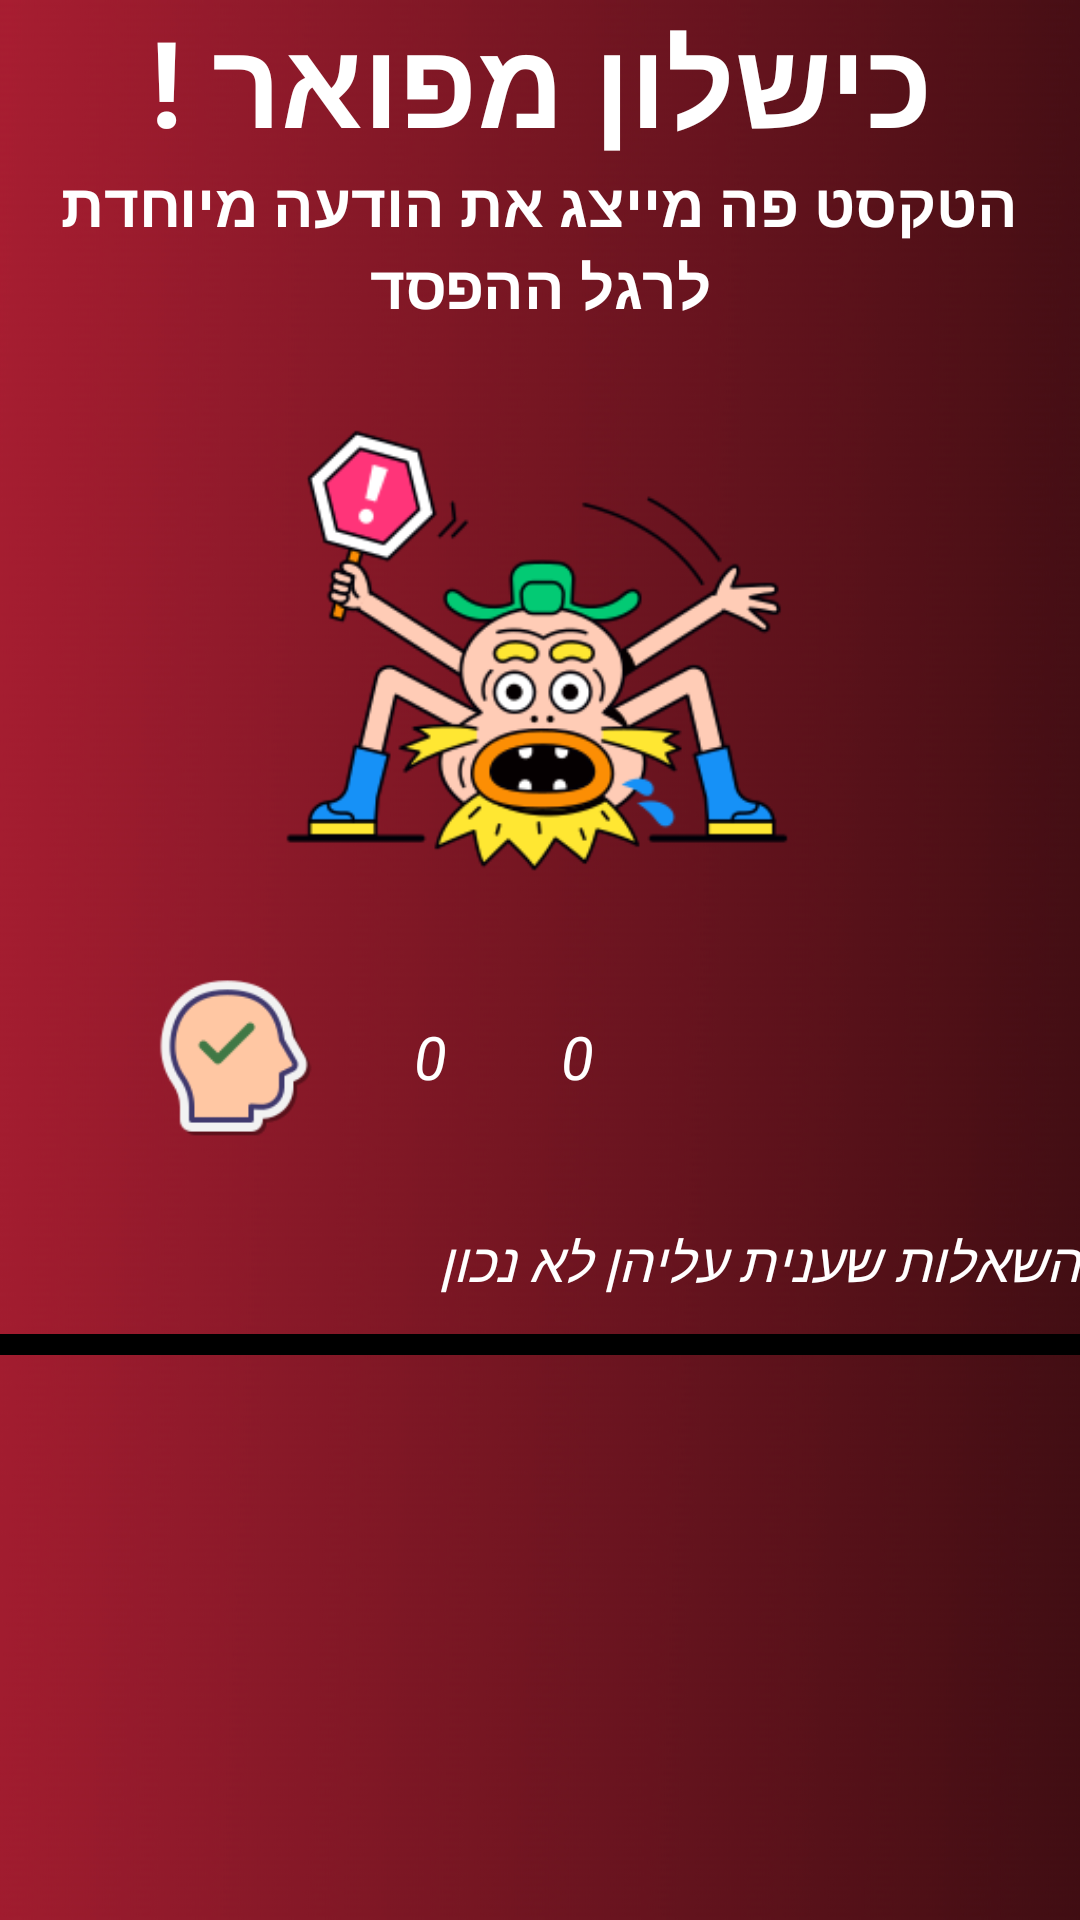

Point at icon controls on the screen. Image size 1080 × 1920, points as (x,y).
rightq: (260,1062)
